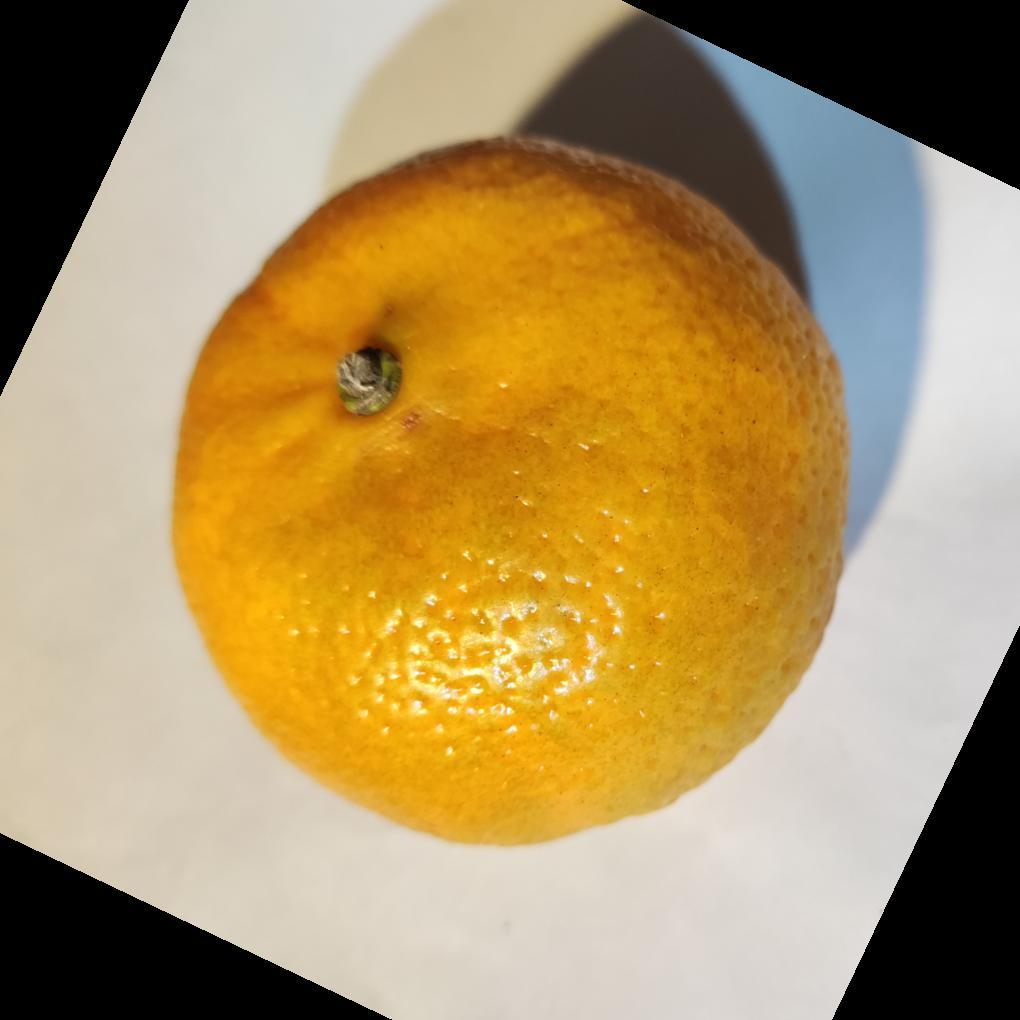FreshGuava: (167, 135, 852, 853)
